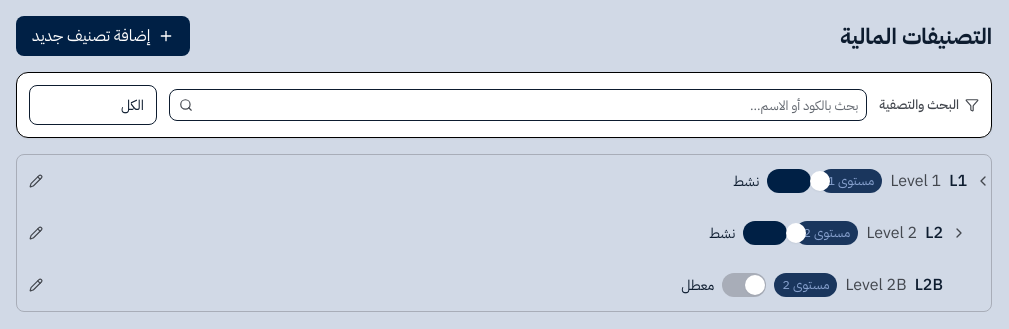
Test: T036: IsActive filter shows matching nodes and ancestors › filter active shows only active nodes
Select "نشط" in the dropdown showing "الكل": (93,105) [29, 85, 157, 125]
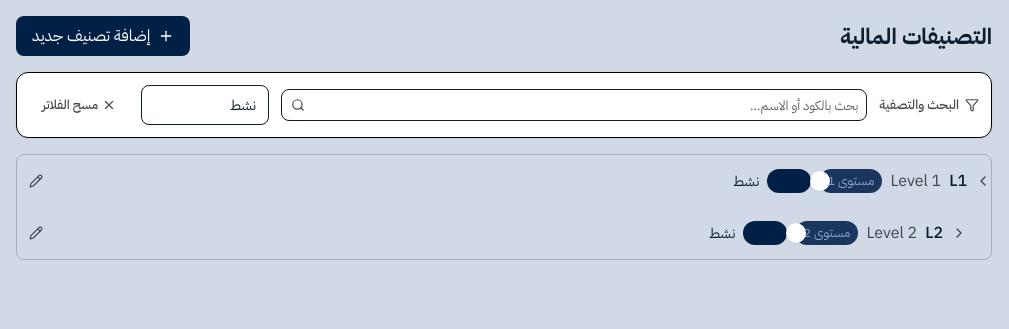
Expected: the text "L1" is shown, [949, 169, 967, 193]
Expected: the text "L2B" is gone
